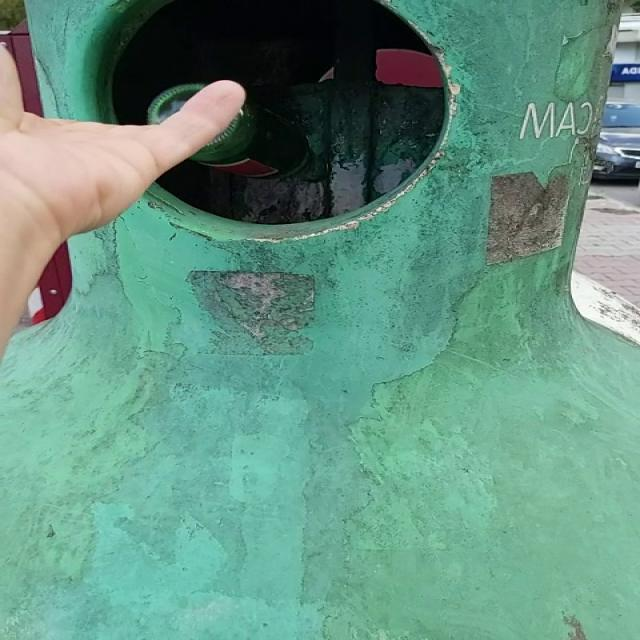Glass: (188, 103, 324, 179), (147, 84, 205, 124)
